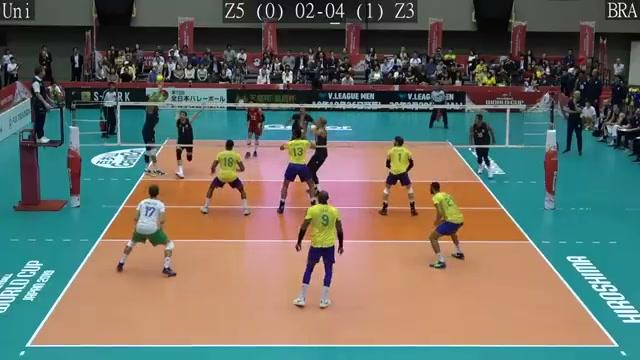ball: (154, 73, 165, 85)
